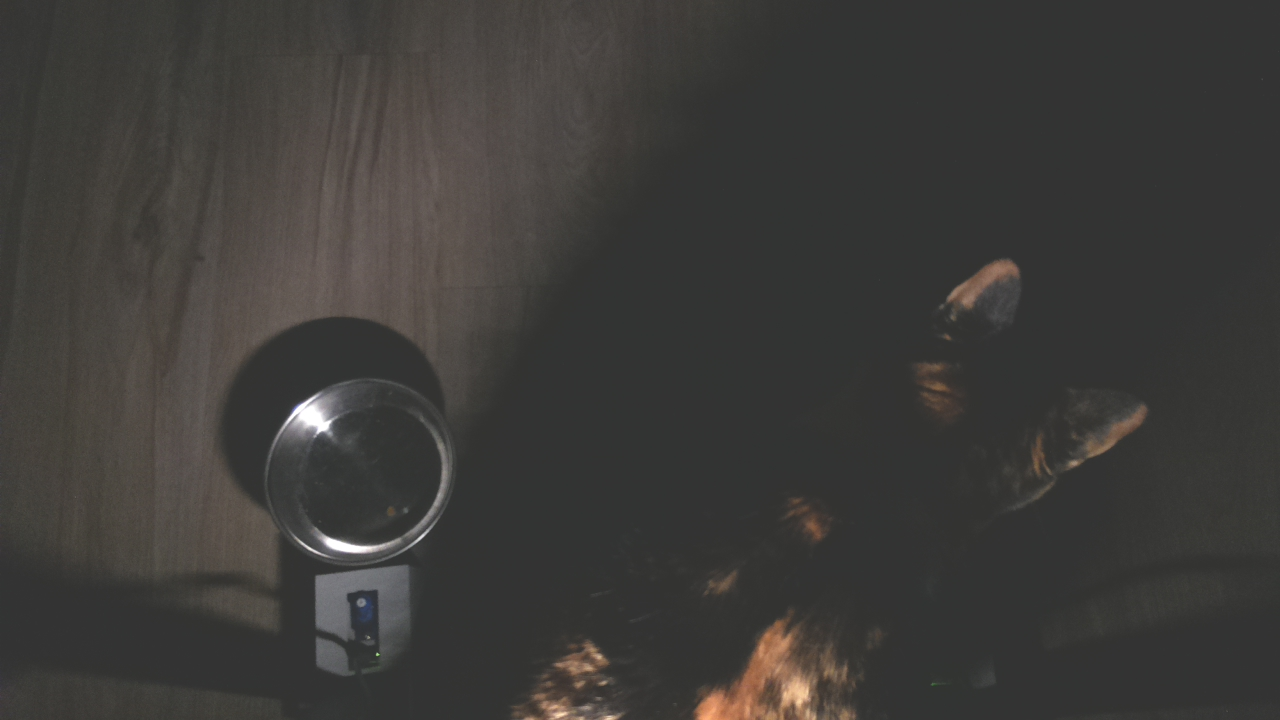bella_eating: (890, 241, 1147, 549)
open_bowl: (261, 372, 462, 568)
